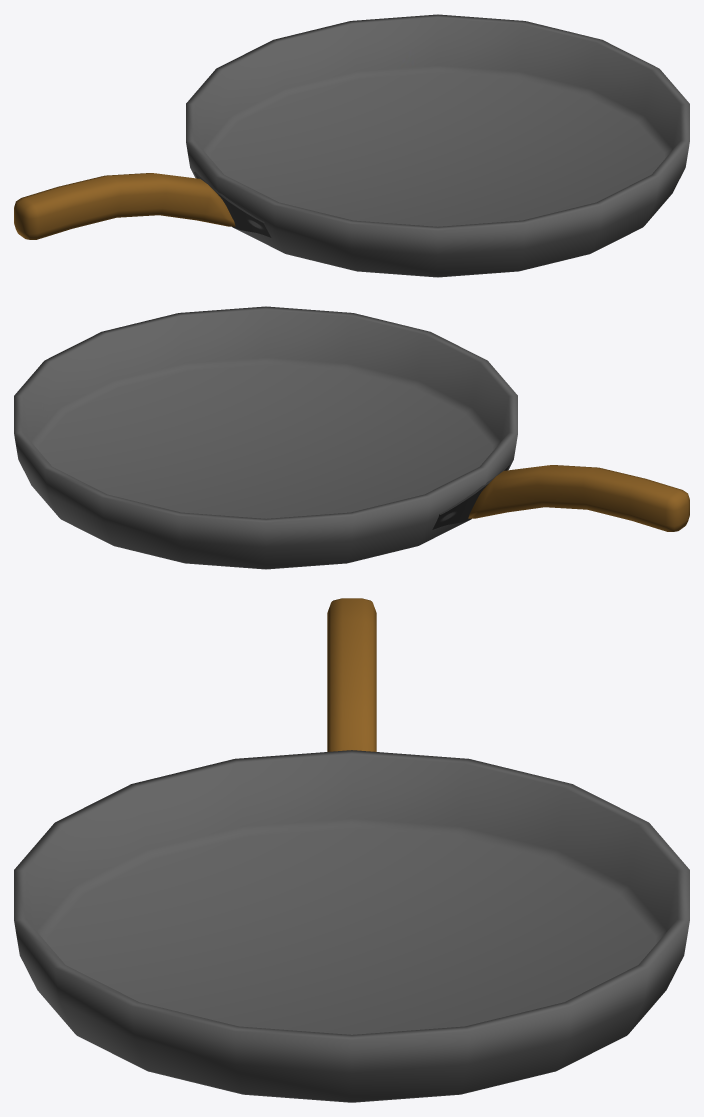
The model's file is FryingPan_Naughty_2.FBX.
3 views of the same model, one above another, from view 1: azimuth 30°, elevation 25°; view 2: azimuth 150°, elevation 25°; view 3: azimuth 270°, elevation 25° (orthographic). The views are drawn at different scales.
Parts seen in each view (by area): view 1: Pan; view 2: Pan; view 3: Pan.
Boxes of the visible parts, x1,y1,x2,y2 form: Pan: [14, 14, 689, 277]; Pan: [14, 306, 689, 569]; Pan: [14, 598, 689, 1102].
Bounding box in the file's own units: 20.22 × 2.38 × 13.79.
